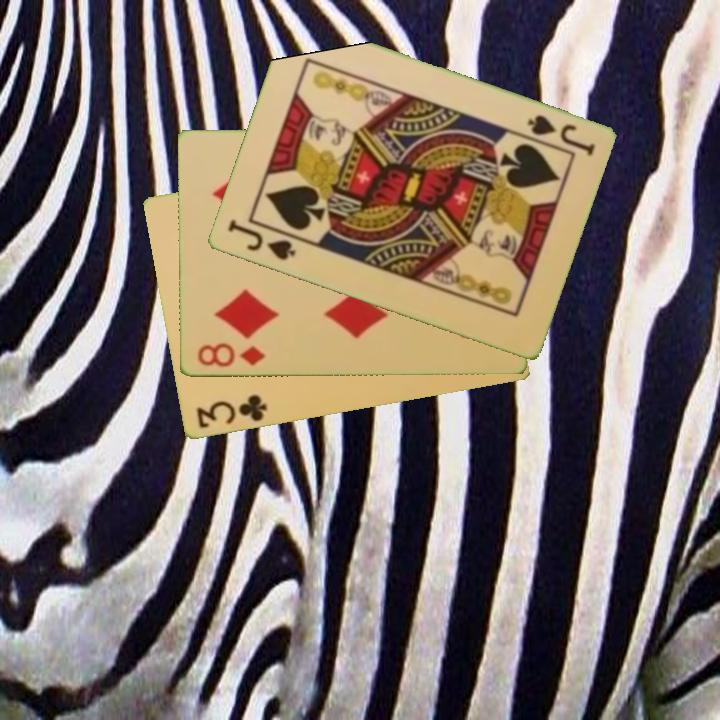3c: (192, 391, 270, 432)
8d: (194, 340, 268, 370)
Js: (223, 216, 299, 264), (523, 111, 598, 159)
